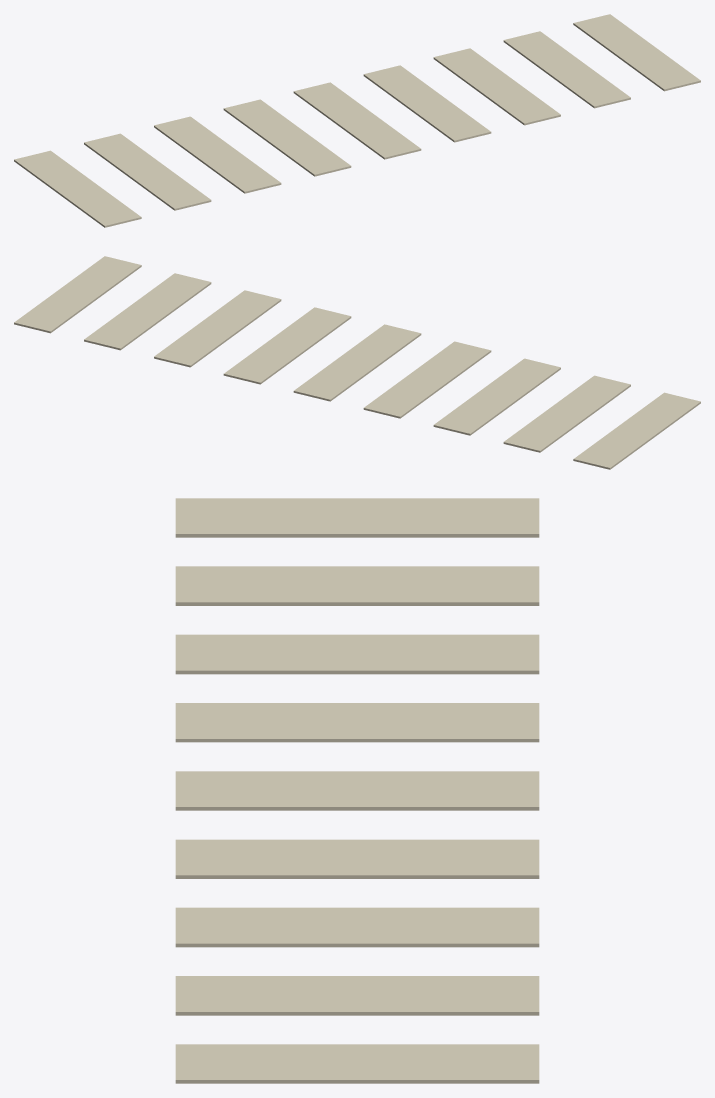
File: Crosswalk_8m.fbx
3 renders of one model, top to bottom at view 1: azimuth 30°, elevation 25°; view 2: azimuth 150°, elevation 25°; view 3: azimuth 270°, elevation 25°, orthographic. The views are drawn at different scales.
Parts seen in each view (by area): view 1: Stripe.004, Stripe.003, Stripe.005, Stripe.001, Stripe.007, Stripe, Stripe.002, Stripe.006, Stripe.008; view 2: Stripe.004, Stripe.003, Stripe.005, Stripe.001, Stripe.007, Stripe, Stripe.002, Stripe.006, Stripe.008; view 3: Stripe.002, Stripe.006, Stripe, Stripe.001, Stripe.004, Stripe.007, Stripe.008, Stripe.003, Stripe.005.
Boxes of the visible parts, <box> form: Stripe.004: <box>293,82,421,159</box>; Stripe.003: <box>223,99,351,176</box>; Stripe.005: <box>363,65,491,142</box>; Stripe.001: <box>84,133,211,210</box>; Stripe.007: <box>503,31,630,108</box>; Stripe: <box>14,150,141,227</box>; Stripe.002: <box>154,116,281,193</box>; Stripe.006: <box>433,48,560,125</box>; Stripe.008: <box>573,14,700,91</box>; Stripe.004: <box>293,324,421,401</box>; Stripe.003: <box>363,341,491,418</box>; Stripe.005: <box>223,307,351,384</box>; Stripe.001: <box>503,375,630,452</box>; Stripe.007: <box>84,273,211,350</box>; Stripe: <box>573,392,700,469</box>; Stripe.002: <box>433,358,560,435</box>; Stripe.006: <box>154,290,281,367</box>; Stripe.008: <box>14,256,141,333</box>; Stripe.002: <box>175,634,539,674</box>; Stripe.006: <box>175,907,539,947</box>; Stripe: <box>175,498,539,537</box>; Stripe.001: <box>175,566,539,605</box>; Stripe.004: <box>175,771,539,810</box>; Stripe.007: <box>175,976,539,1015</box>; Stripe.008: <box>175,1044,539,1083</box>; Stripe.003: <box>175,703,539,742</box>; Stripe.005: <box>175,839,539,878</box>.
Bounding box in the file's own units: 6.82 × 0.02 × 1.8.
